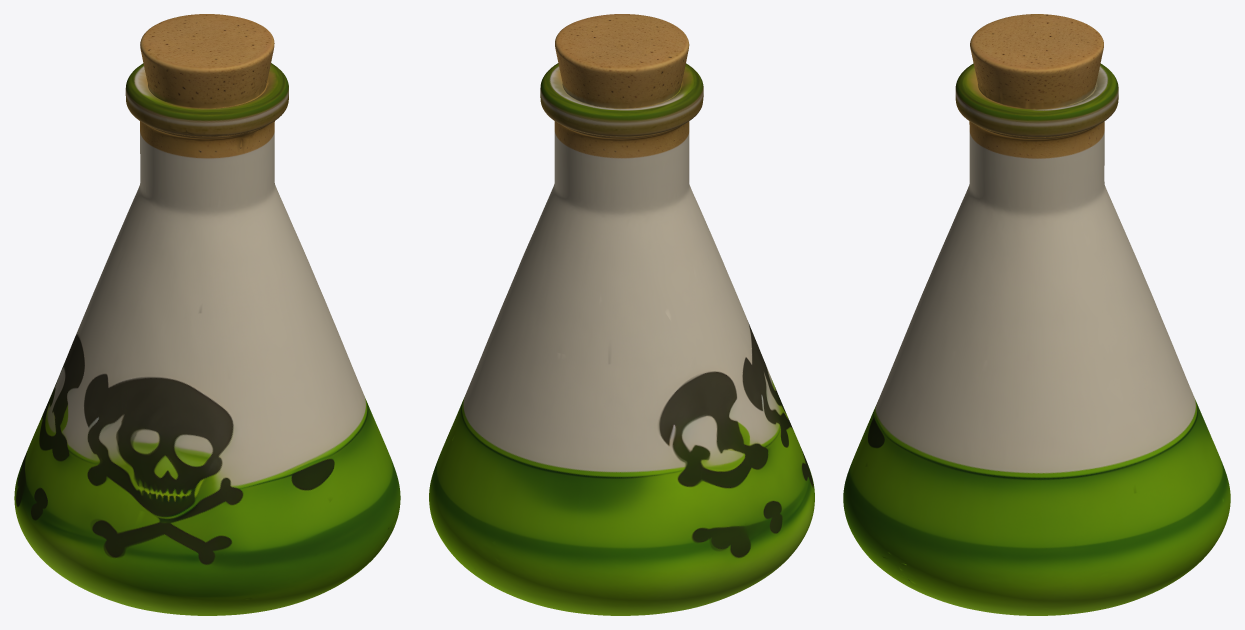
Rendered from pixellabs-poison-bottle-2771.glb.
3 views of the same model, side by side, from view 1: azimuth 30°, elevation 25°; view 2: azimuth 150°, elevation 25°; view 3: azimuth 270°, elevation 25° (orthographic).
Visible parts, largest first — view 1: material; view 2: material; view 3: material.
Boxes of the visible parts, <box> form: material: <box>14,14,400,615</box>; material: <box>429,14,814,615</box>; material: <box>843,14,1230,615</box>.
Size of the model in its own units: 0.7257 by 1.07 by 0.7287.
Materials: 1 (1 with a texture image).
